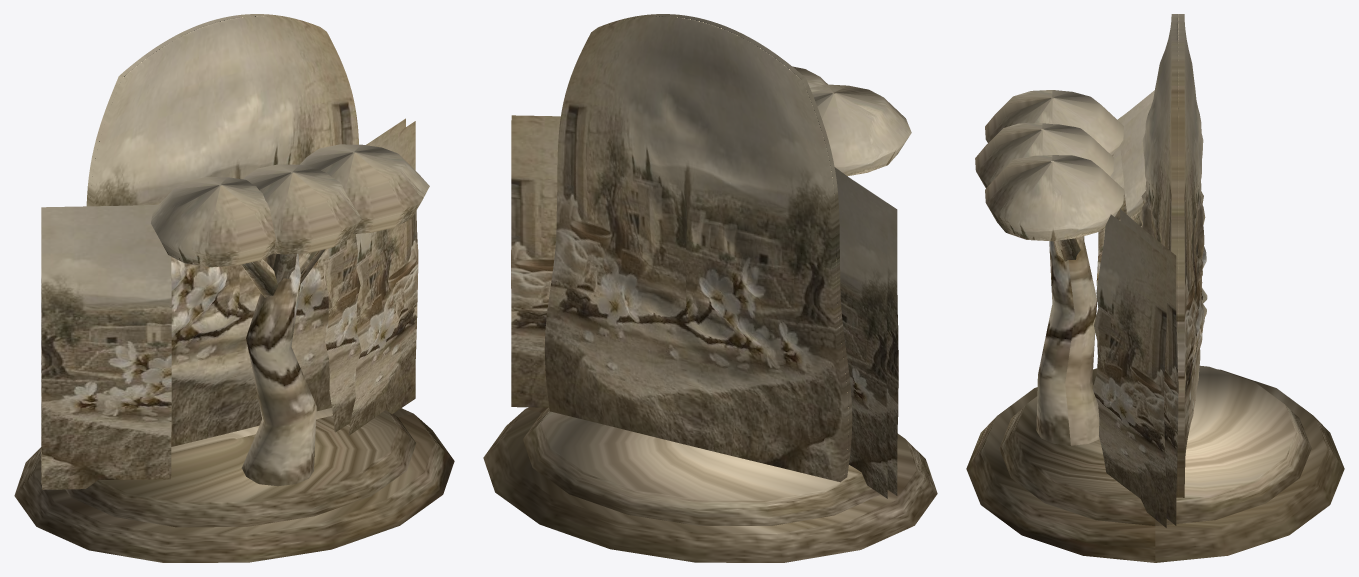
Rendered from a-future-and-a-hope-3.glb.
3 views of the same model, side by side, from view 1: azimuth 30°, elevation 25°; view 2: azimuth 150°, elevation 25°; view 3: azimuth 270°, elevation 25° (orthographic). The views are drawn at different scales.
Parts seen in each view (by area): view 1: PaintingSculptureMonument; view 2: PaintingSculptureMonument; view 3: PaintingSculptureMonument.
Boxes of the visible parts, box(x1,y1,x2,y2) form: PaintingSculptureMonument: box(14, 14, 454, 562); PaintingSculptureMonument: box(483, 14, 937, 562); PaintingSculptureMonument: box(966, 14, 1344, 562).
Size of the model in its own units: 2.76 by 2.99 by 2.35.
Materials: 1 (1 with a texture image).
